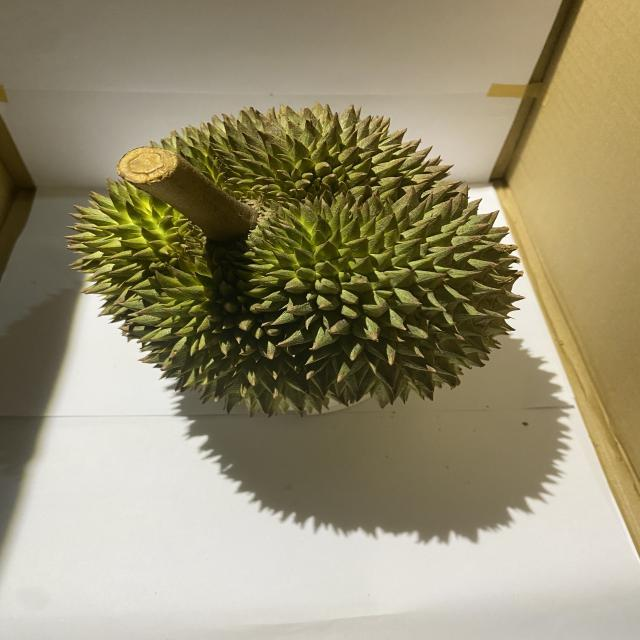immature: (72, 100, 526, 423)
